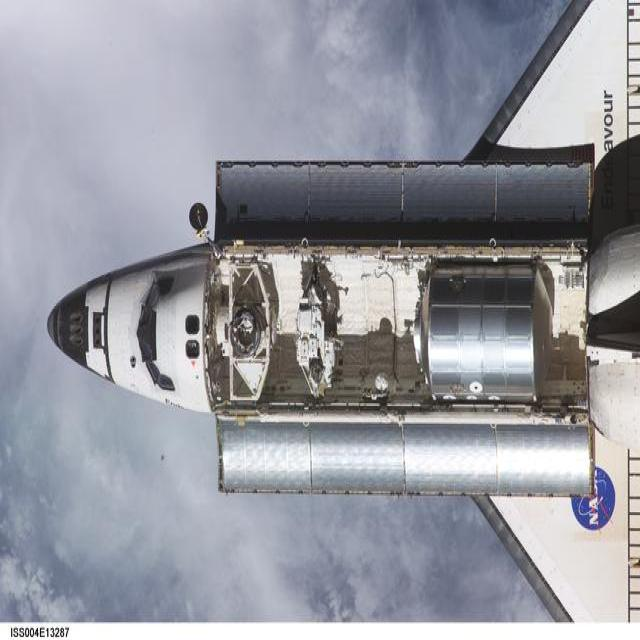satellite: (48, 166, 636, 582)
